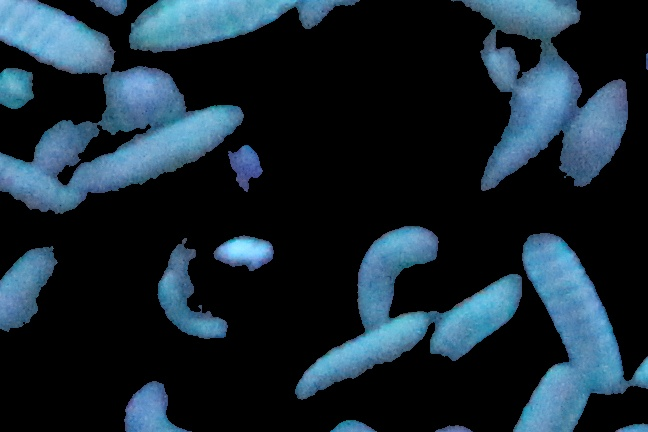larvae: (81, 107, 258, 210), (520, 224, 619, 375), (471, 58, 577, 196), (31, 71, 181, 165), (296, 313, 434, 402), (563, 80, 645, 198), (353, 226, 442, 322), (127, 1, 293, 52), (1, 240, 80, 346), (1, 1, 115, 74), (432, 268, 524, 358), (521, 362, 596, 432), (1, 156, 79, 215)
